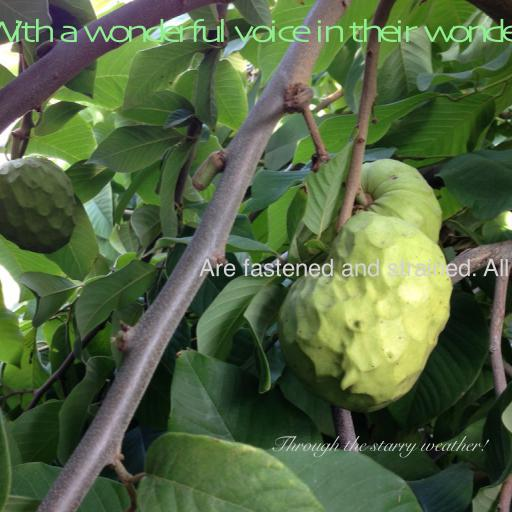Helvetica: (199, 258, 509, 277)
Skia: (0, 18, 512, 49)
Snell Roundhand: (269, 436, 487, 458)
